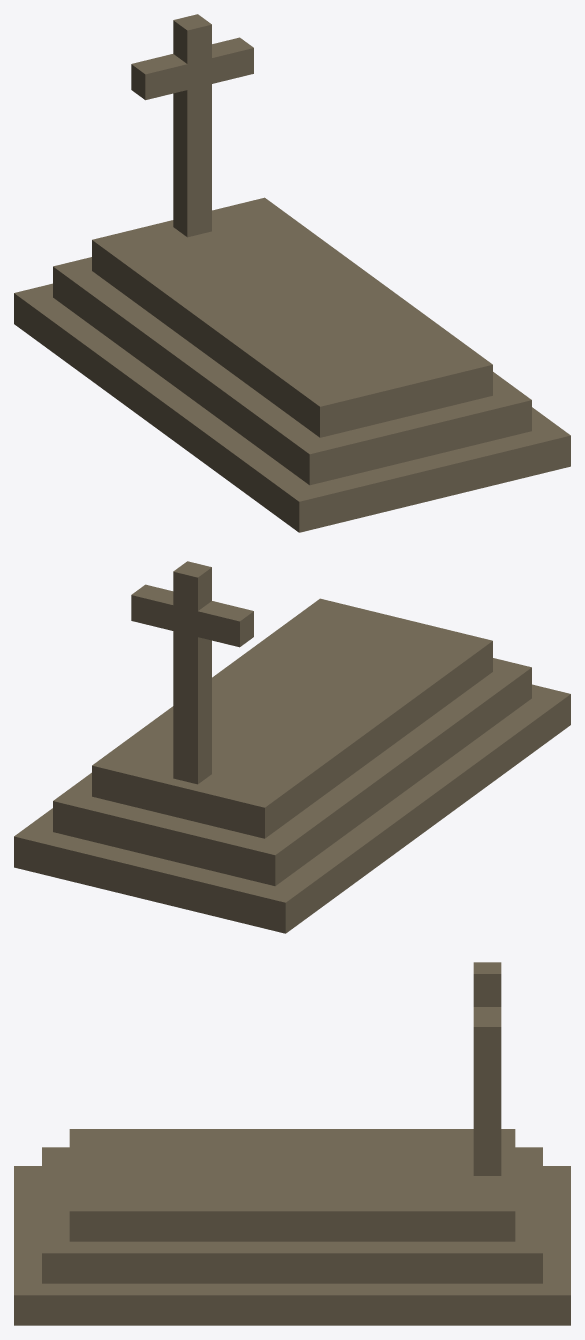
Rendered from tumba3.obj.
3 renders of one model, top to bottom at view 1: azimuth 30°, elevation 25°; view 2: azimuth 150°, elevation 25°; view 3: azimuth 270°, elevation 25°, orthographic. The views are drawn at different scales.
Visible parts, largest first — view 1: tumba3; view 2: tumba3; view 3: tumba3.
Part boxes in pixels (left/top/right/bottom): tumba3: left=14, top=14, right=570, bottom=532; tumba3: left=14, top=561, right=570, bottom=933; tumba3: left=14, top=962, right=570, bottom=1325.
Bounding box in the file's own units: 1.1 × 1.16 × 2.
Materials: 1 (1 with a texture image).
